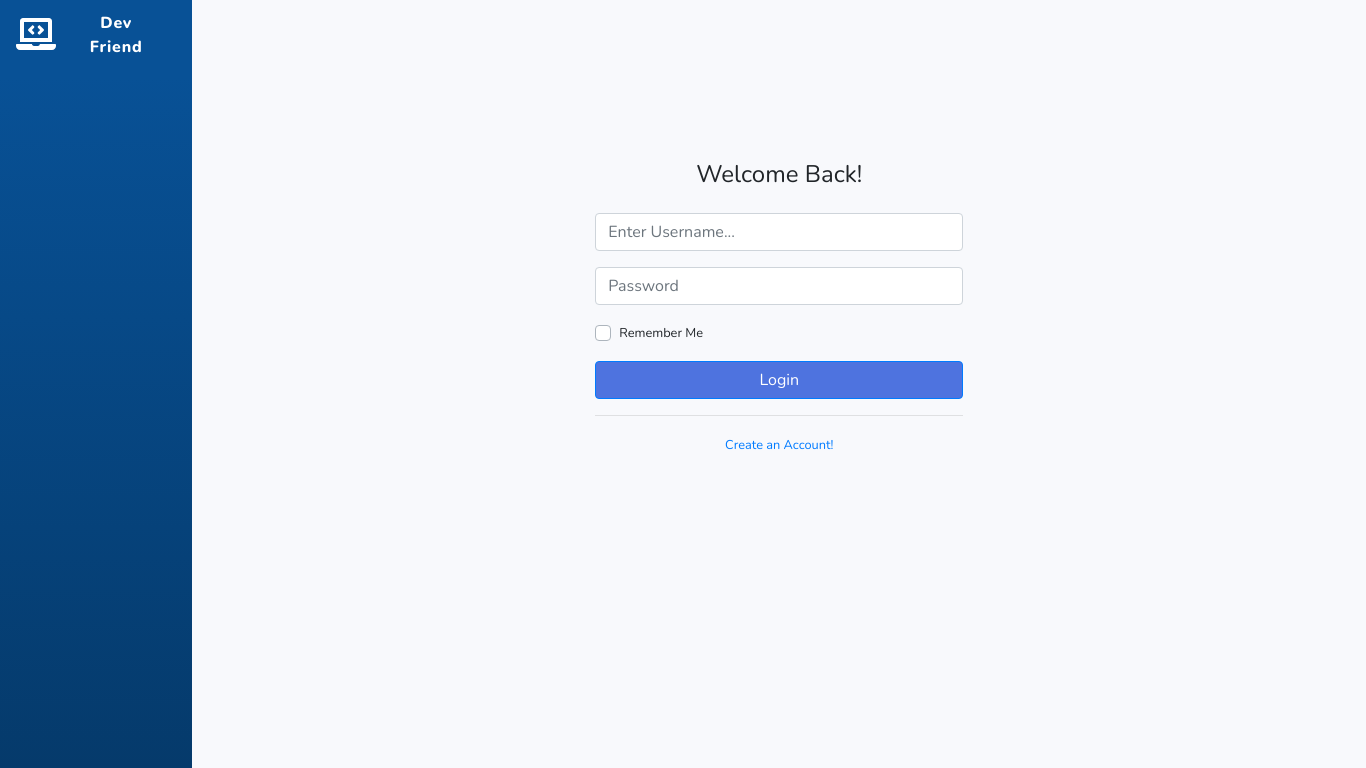
Test case: Login › Check empty username
The width and height of the screenshot is (1366, 768).
Click the button "Login". click: click(779, 380)
box: [595,361,963,399]
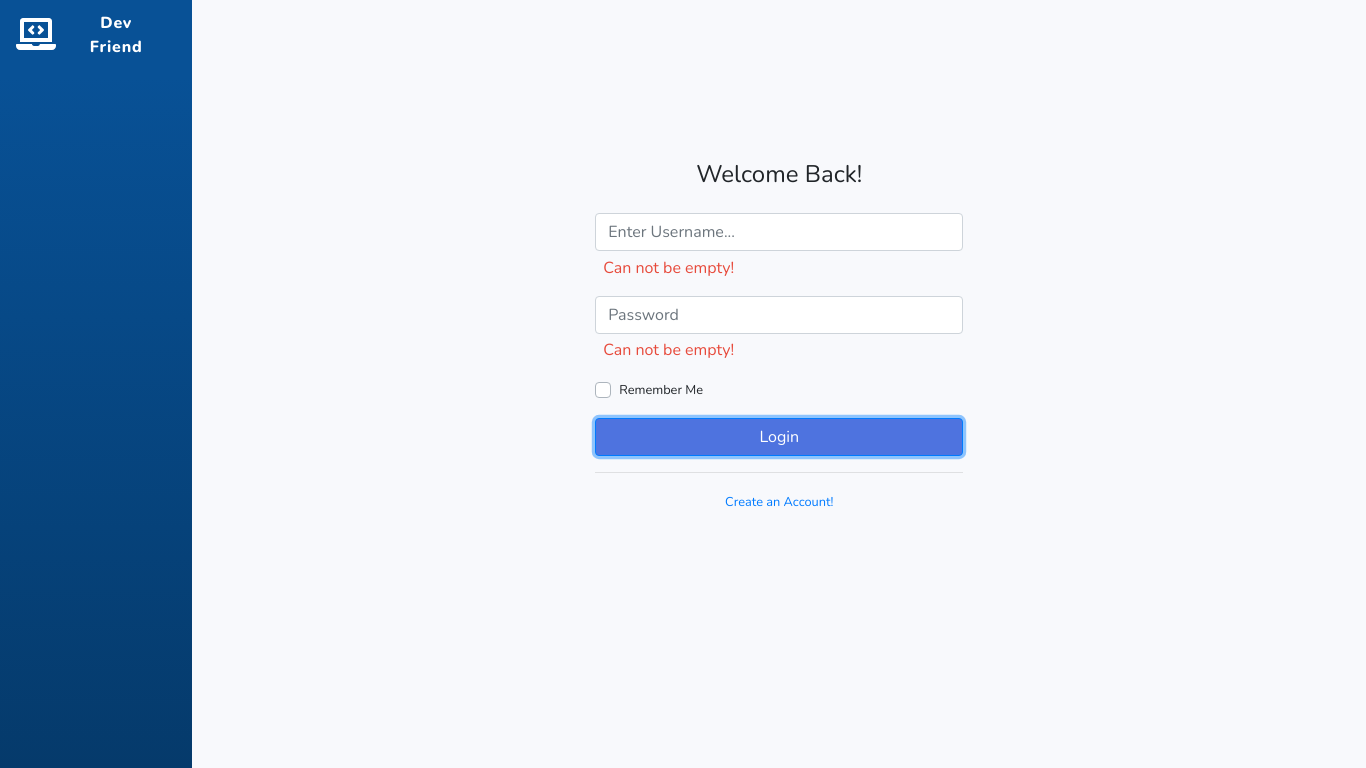
Expected: the 1st text with class "error" reads "Can not be empty!", [603,257,734,279]
